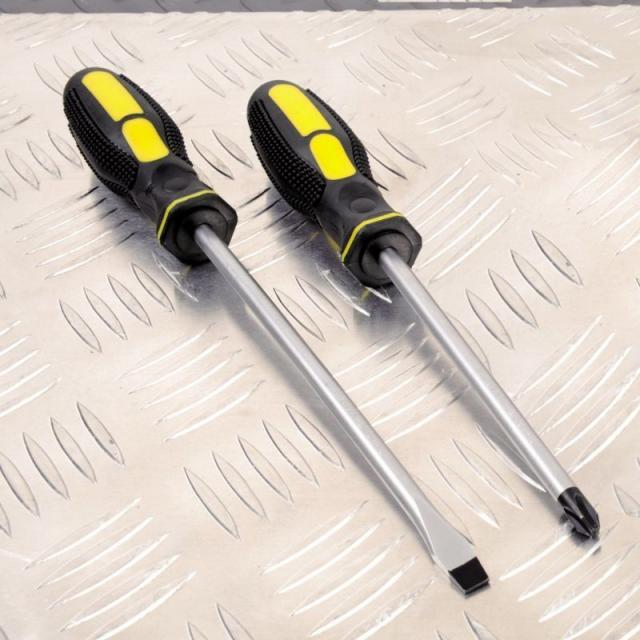screwdriver: (58, 63, 494, 603), (243, 72, 604, 546)
